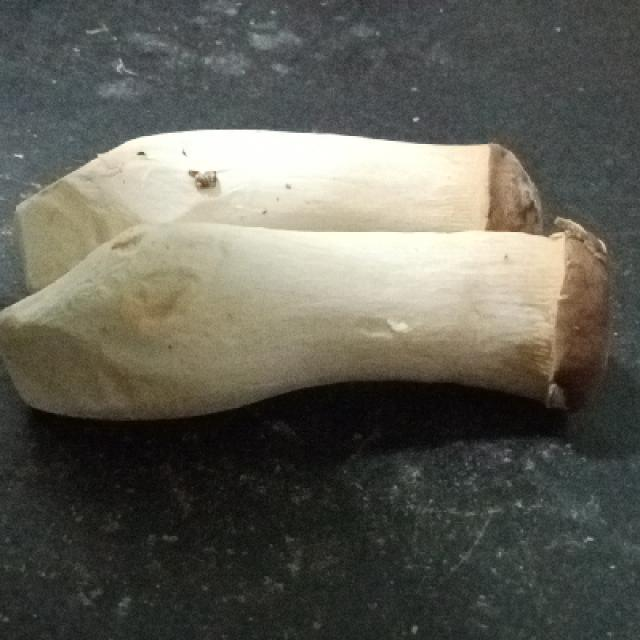Pleurotus eryngii: (0, 130, 623, 419)
